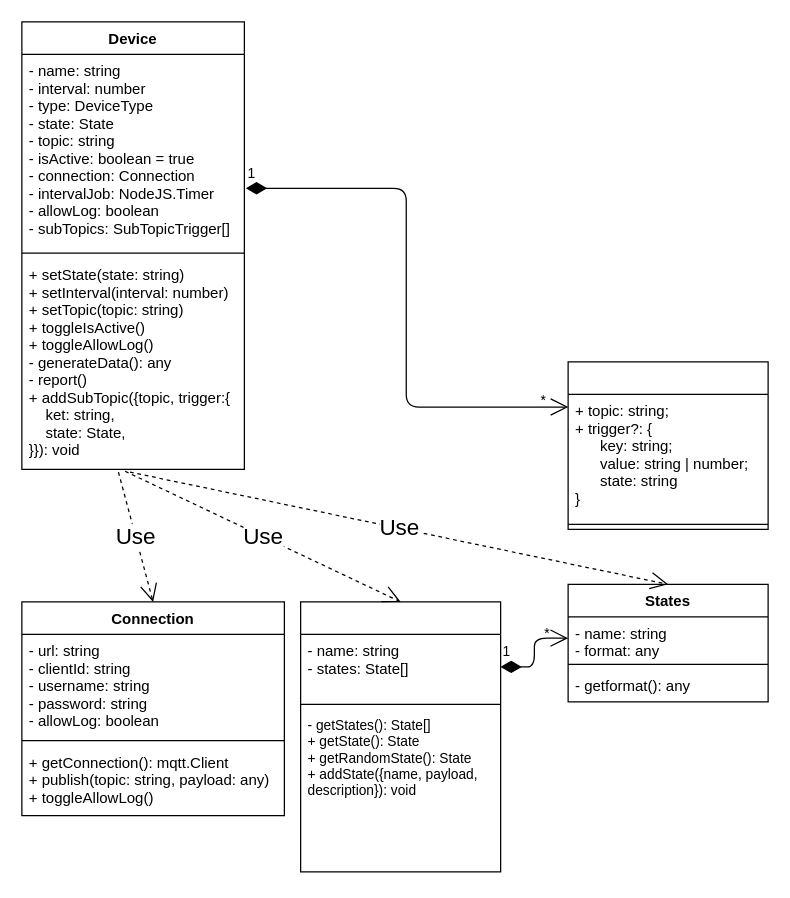
Image size: 790x898. Some labels were removed from this diagram. Here are the shapes that lost their labels. From the top down, the box of each, then its label:
(567, 361, 768, 529): SubTopicTrigger
(299, 601, 501, 872): Device Type
